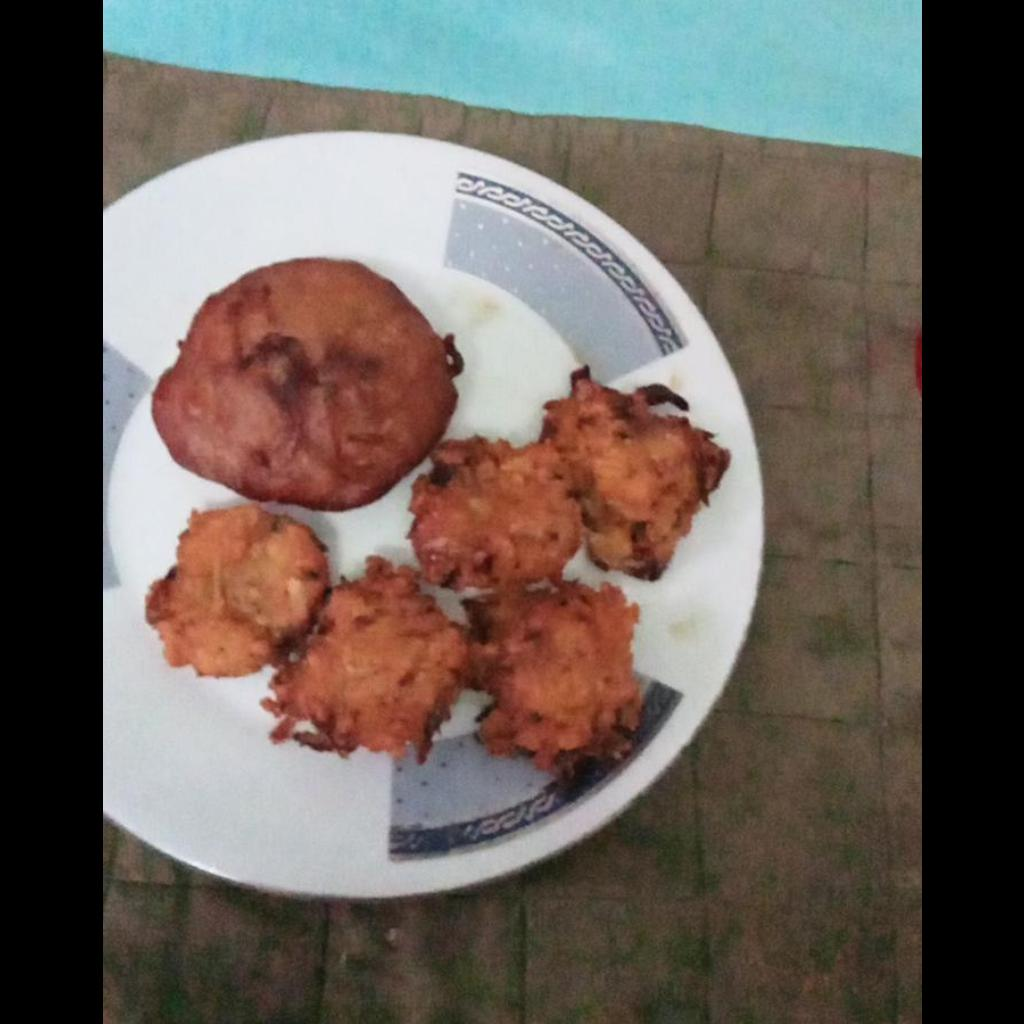chop-alu: (146, 255, 461, 517)
piyaju: (145, 360, 728, 763)
